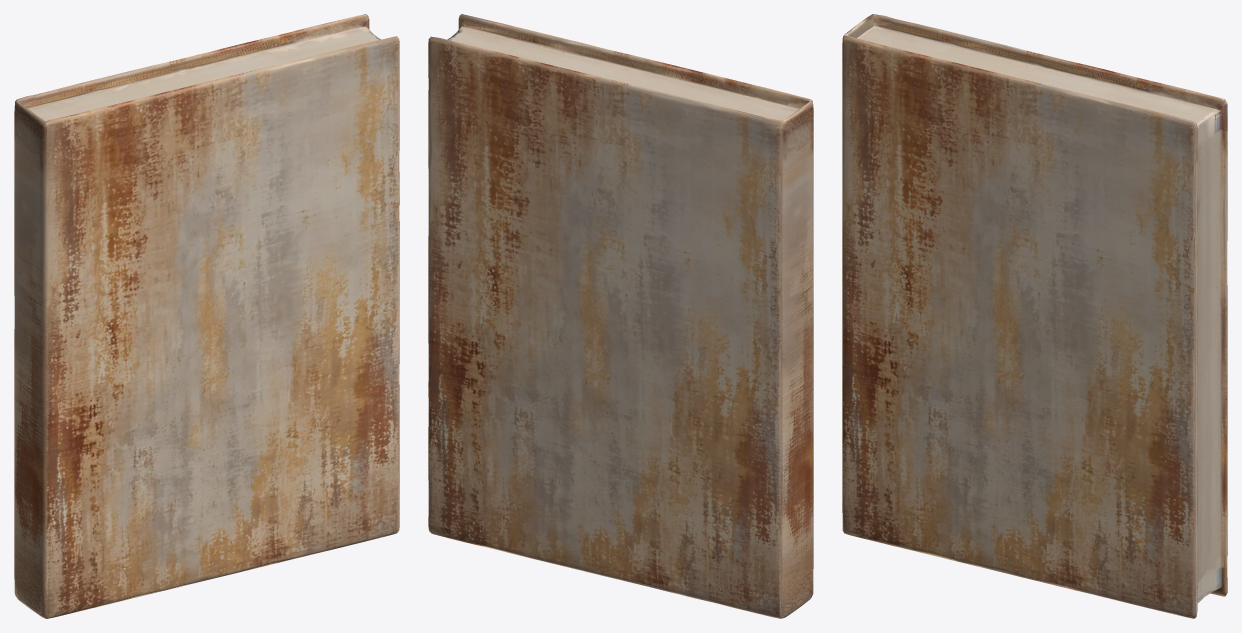
Rendered from Living Room Area Rug.glb.
3 views of the same model, side by side, from view 1: azimuth 30°, elevation 25°; view 2: azimuth 150°, elevation 25°; view 3: azimuth 330°, elevation 25° (orthographic).
Parts seen in each view (by area): view 1: Mesh_0; view 2: Mesh_0; view 3: Mesh_0.
Part boxes in pixels (box(x1,y1,x2,y2)): Mesh_0: box(14, 14, 399, 618); Mesh_0: box(428, 14, 813, 618); Mesh_0: box(842, 14, 1227, 618).
Size of the model in its own units: 0.4492 by 0.6 by 0.0724.
Materials: 1 (1 with a texture image).
